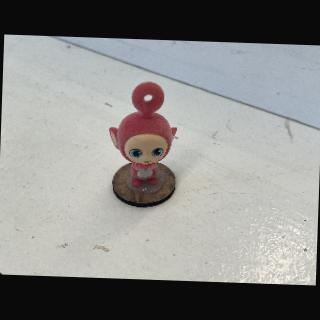teletubby: (109, 82, 177, 187)
